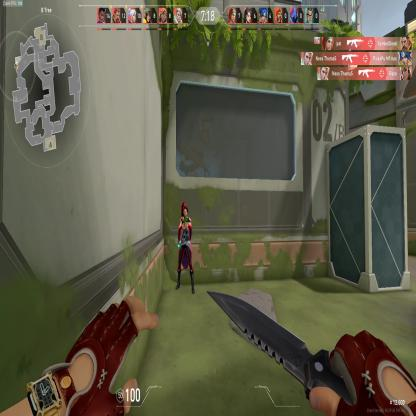enemy: (175, 201, 195, 294)
